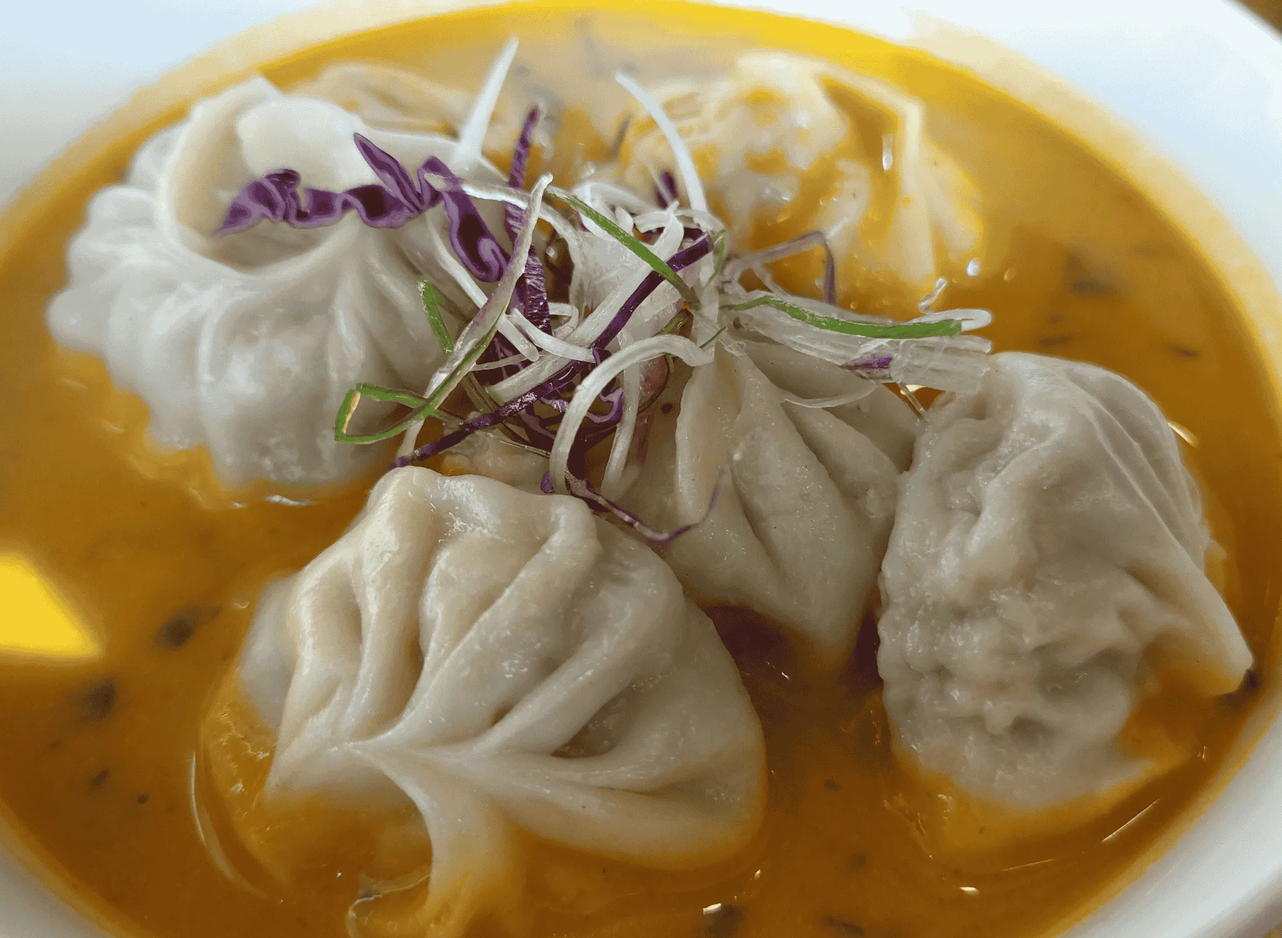momo: (190, 463, 769, 921), (388, 256, 919, 673), (54, 71, 517, 477), (873, 340, 1251, 821)
